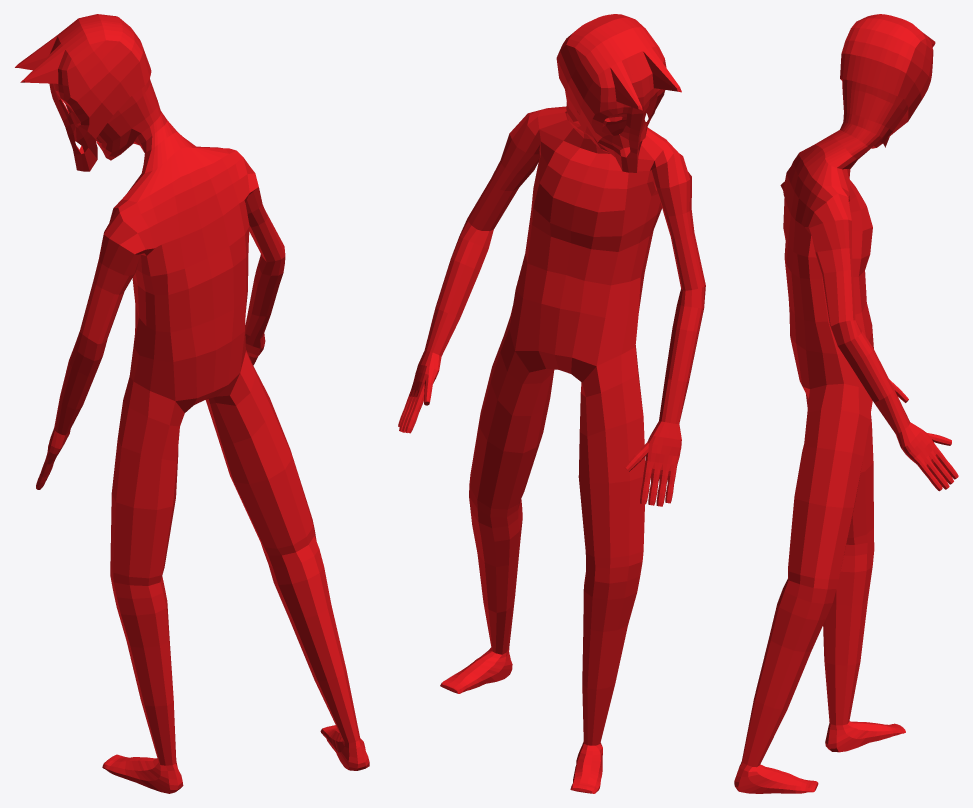
File: reposoE_000236.obj
The picture shows the model from 3 angles, left to right: view 1: azimuth 30°, elevation 25°; view 2: azimuth 150°, elevation 25°; view 3: azimuth 270°, elevation 25°; orthographic projection. The views are drawn at different scales.
Parts seen in each view (by area): view 1: Plane.002_Plane.001; view 2: Plane.002_Plane.001; view 3: Plane.002_Plane.001.
Part boxes in pixels (bbox=[...]): Plane.002_Plane.001: bbox=[15, 14, 369, 793]; Plane.002_Plane.001: bbox=[398, 14, 705, 793]; Plane.002_Plane.001: bbox=[734, 14, 958, 793].
Size of the model in its own units: 2.71 by 7.04 by 2.02.
